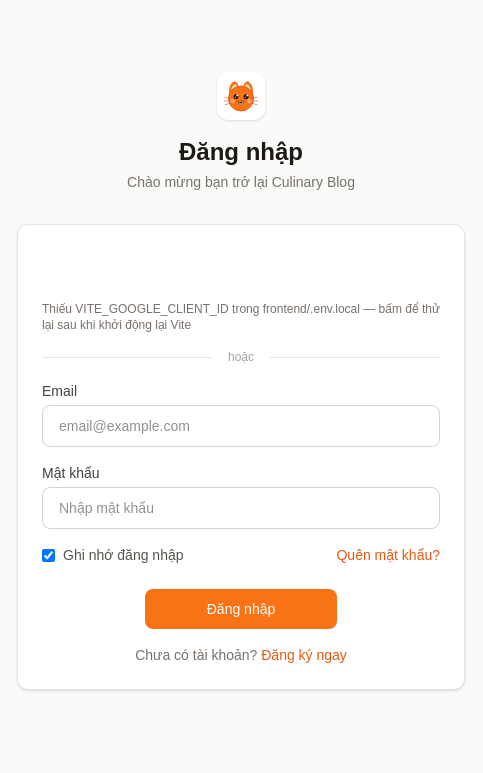
LoginPage — showcase #login-2-error---invalid-credentials › shows the 401 banner with the Vietnamese message and marks both fields invalid
Step 1. Type "an@example.com" into the field labelled "Email" → (241, 426), box [42,405,440,447]
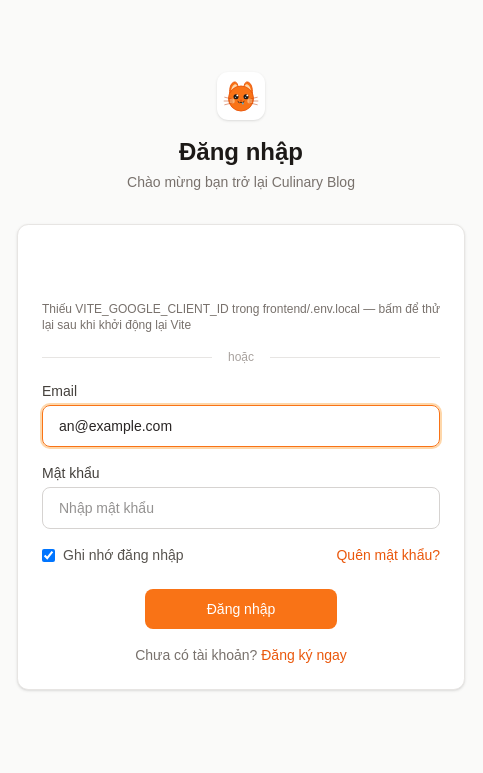
Step 2. Type "Secret1!" into the password field labelled "Mật khẩu" → (241, 508), box [42,487,440,529]
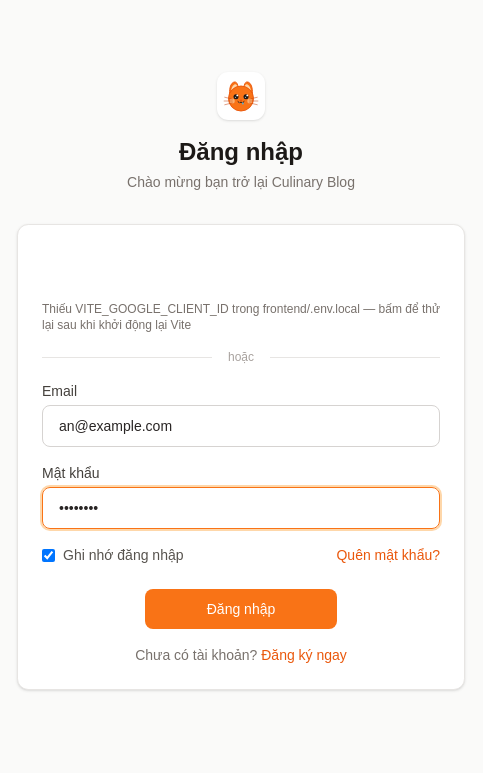
Step 3. Click the button "Đăng nhập" → (241, 609), box [145,589,337,629]
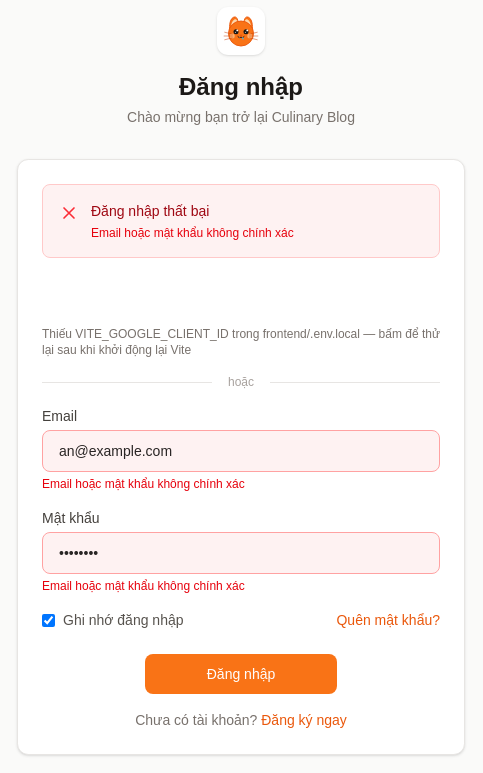
Expected: the message shows "Đăng nhập thất bại", [91,203,209,219]
Expected: the message shows "Email hoặc mật khẩu không chính xác", [91,226,294,240]
